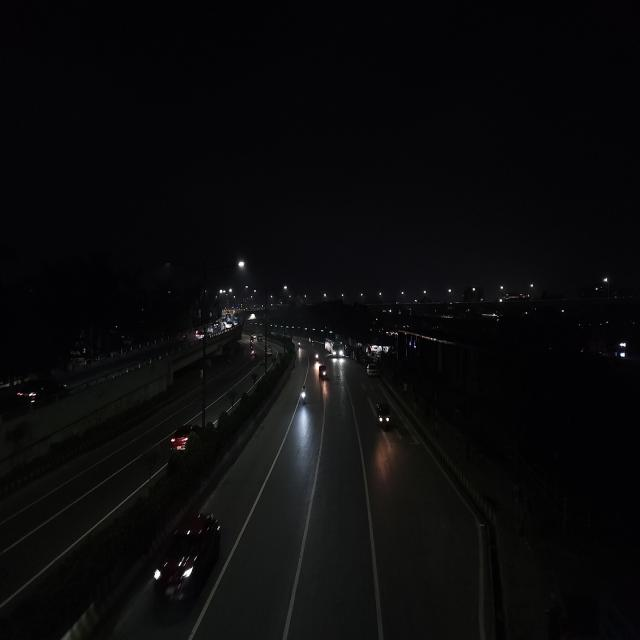bus: (332, 340, 344, 360)
car: (150, 506, 224, 618), (14, 374, 70, 411), (168, 422, 200, 454), (365, 361, 377, 378), (194, 328, 206, 342)
cng: (374, 398, 392, 432), (317, 363, 328, 384)
motorcycle: (299, 384, 309, 406), (314, 352, 320, 365)
